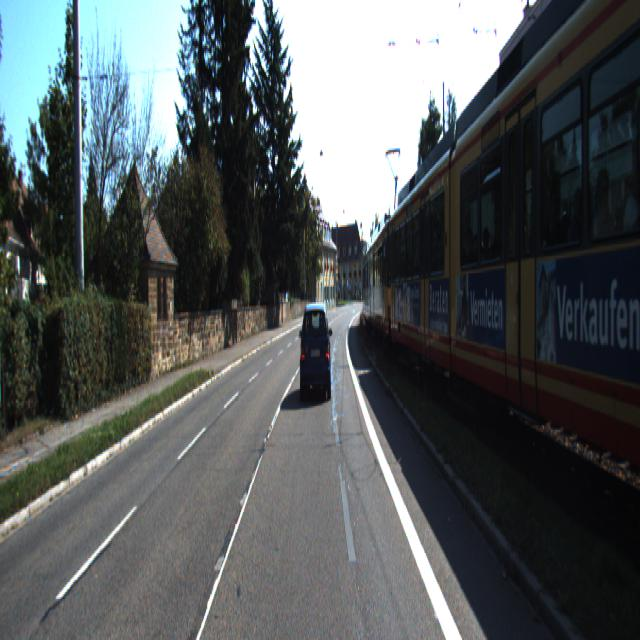Car: (446, 0, 640, 567), (390, 125, 502, 413), (369, 208, 415, 358), (300, 300, 332, 404), (366, 238, 390, 339), (362, 248, 382, 330)
